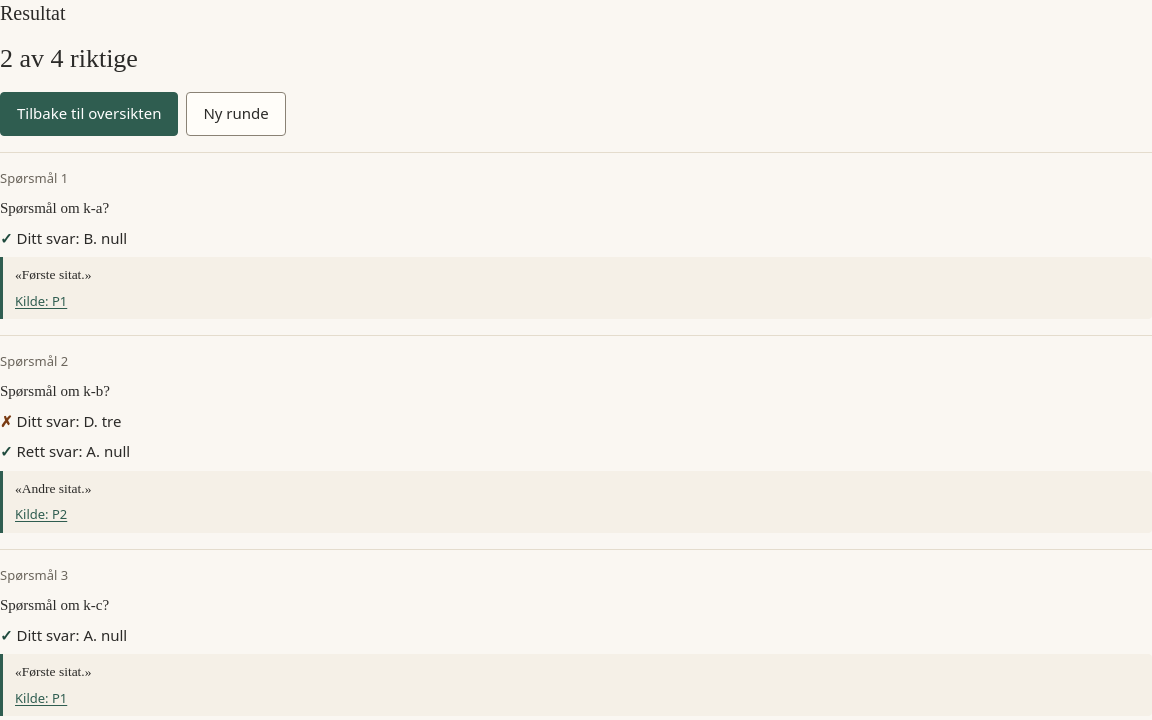
ResultScreen › a failed write keeps Resultat with err.generation inline; pressing again retries
Click the button "Ny runde". click: (236, 114)
box: [186,92,286,136]
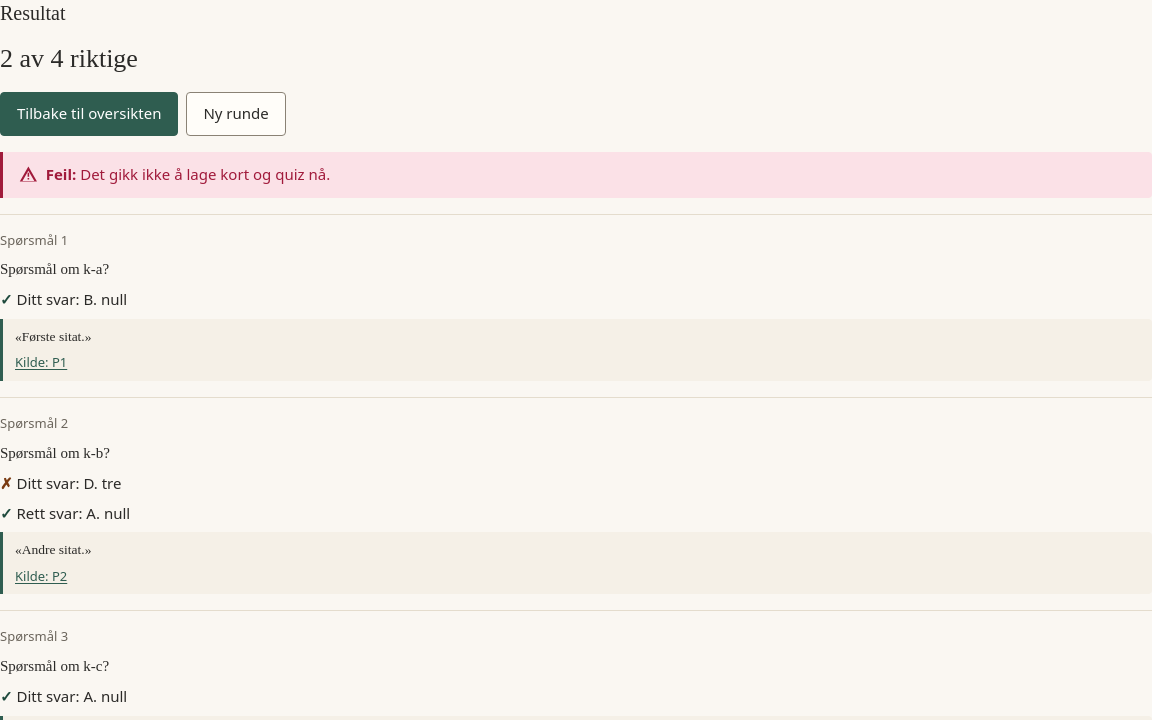
Check: the heading "Resultat" is shown, box [0,2,66,24]
Check: the message "Feil: Det gikk ikke å lage kort og quiz nå." is shown, box [0,152,1151,198]
Click the button "Ny runde". click: (236, 114)
box: [186,92,286,136]
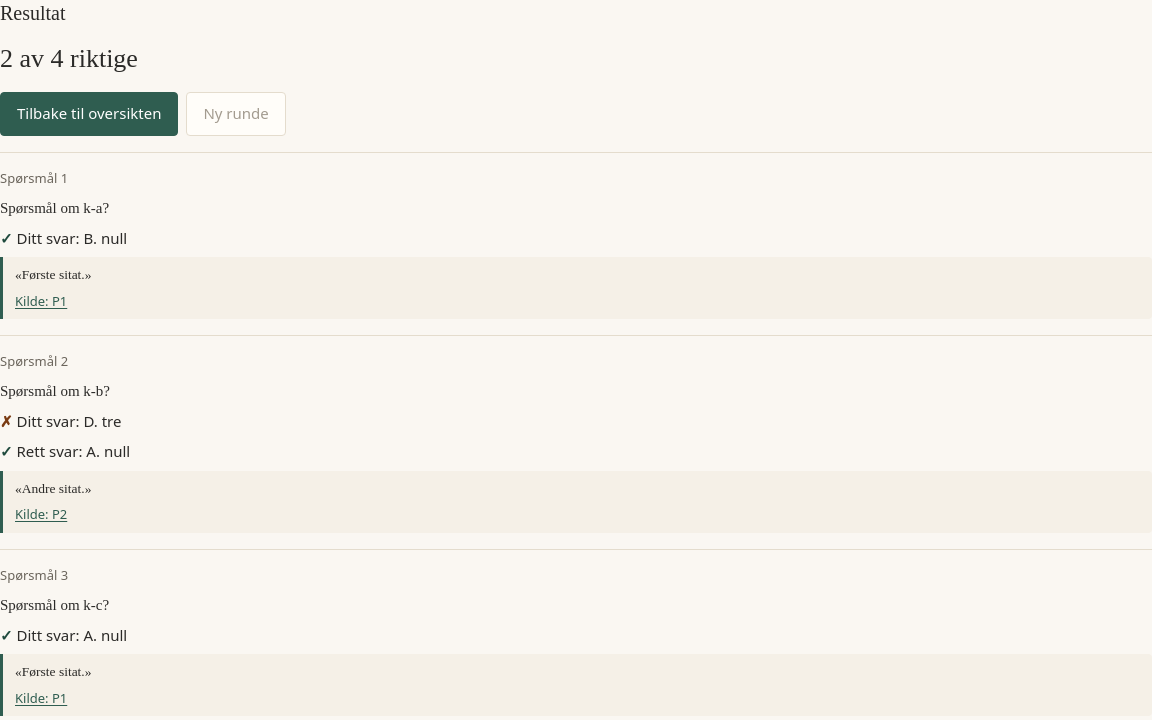
Check: the message "Feil: Det gikk ikke å lage kort og quiz nå." is gone
